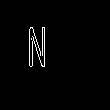N_S: (45, 30, 65, 80)
